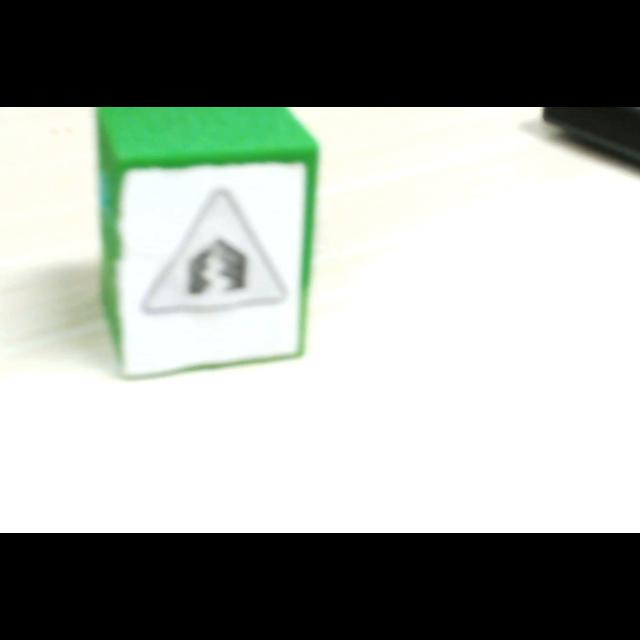Earthquake: (142, 189, 286, 315), (141, 194, 287, 316)
